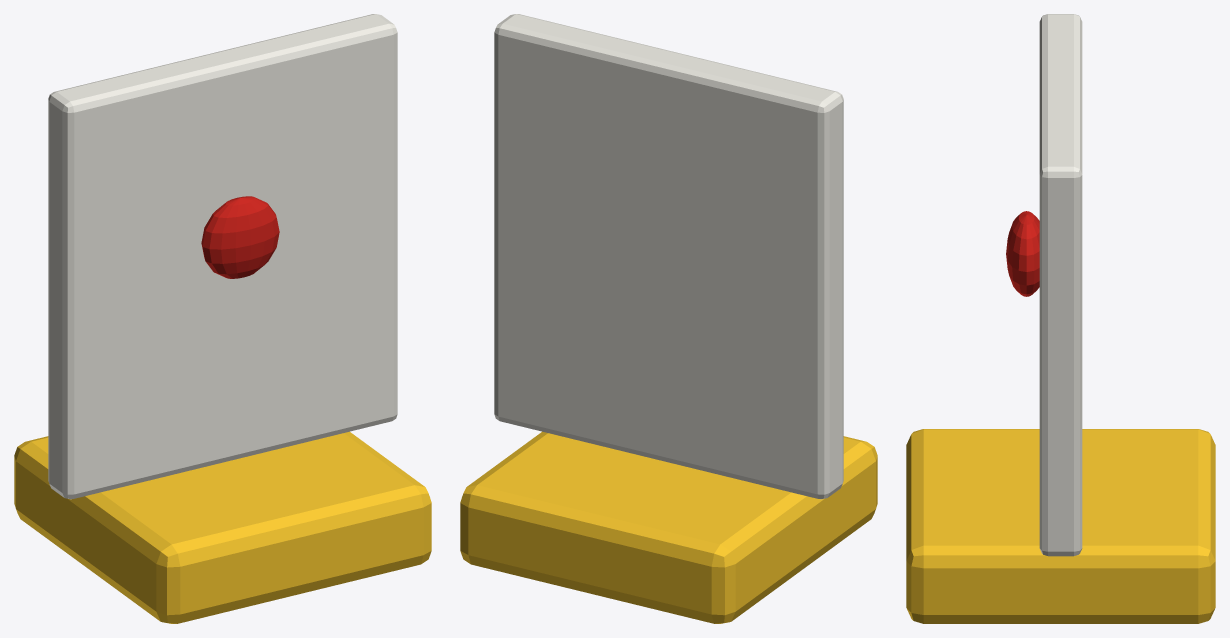
Rendered from evidence_marker.glb.
The picture shows the model from 3 angles, left to right: view 1: azimuth 30°, elevation 25°; view 2: azimuth 150°, elevation 25°; view 3: azimuth 270°, elevation 25°; orthographic projection. The views are drawn at different scales.
Visible parts, largest first — view 1: Marker_Card, Marker_Base, Marker_Dot; view 2: Marker_Card, Marker_Base; view 3: Marker_Base, Marker_Card, Marker_Dot.
Part boxes in pixels (x1,y1,x2,y2): Marker_Card: (48, 14, 397, 499); Marker_Base: (14, 431, 431, 623); Marker_Dot: (201, 196, 279, 278); Marker_Card: (494, 14, 843, 499); Marker_Base: (460, 431, 877, 623); Marker_Base: (906, 429, 1215, 623); Marker_Card: (1039, 14, 1082, 556); Marker_Dot: (1006, 211, 1039, 296).
Bounding box in the file's own units: 0.22 × 0.305 × 0.18.
